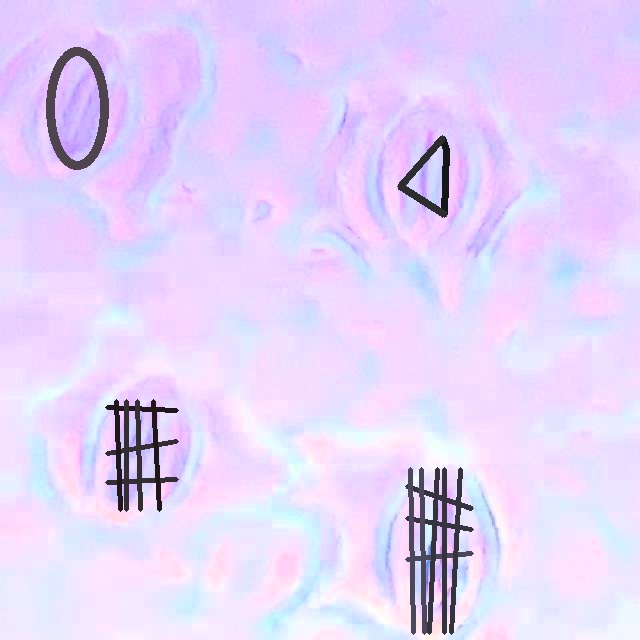open: (405, 467, 473, 634), (105, 399, 178, 511), (45, 46, 109, 170), (397, 135, 449, 217)
